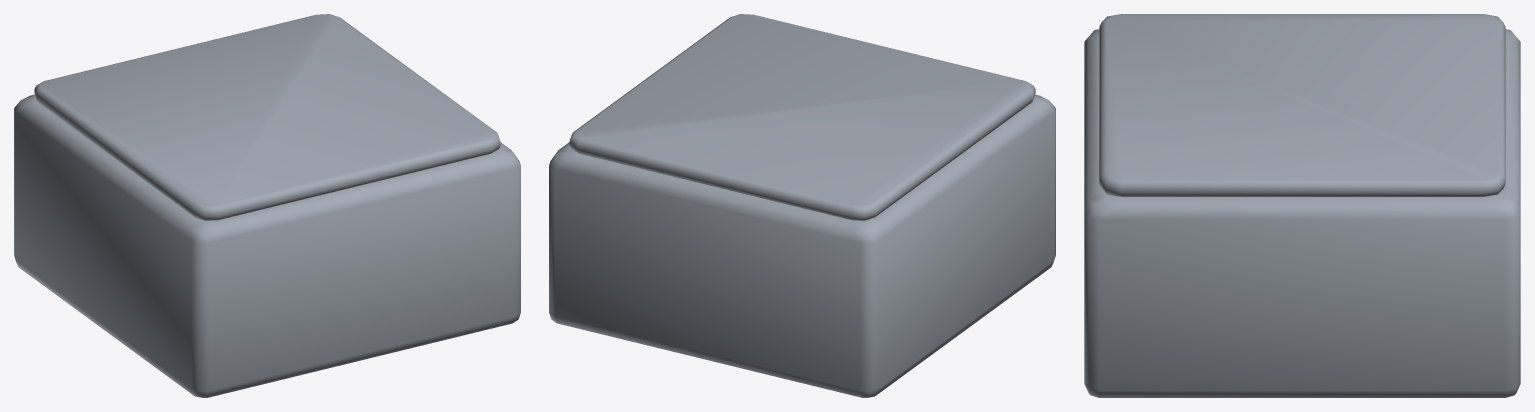
File: Block-O-Gray.fbx
3 views of the same model, side by side, from view 1: azimuth 30°, elevation 25°; view 2: azimuth 150°, elevation 25°; view 3: azimuth 270°, elevation 25° (orthographic). The views are drawn at different scales.
Visible parts, largest first — view 1: Block-O-Gray, Cube.046; view 2: Block-O-Gray, Cube.046; view 3: Block-O-Gray, Cube.046.
Part boxes in pixels (x1,y1,x2,y2): Block-O-Gray: [14, 94, 520, 397]; Cube.046: [34, 14, 500, 220]; Block-O-Gray: [549, 94, 1055, 397]; Cube.046: [569, 14, 1035, 220]; Block-O-Gray: [1084, 29, 1520, 397]; Cube.046: [1099, 14, 1505, 196].
Size of the model in its own units: 100 by 54.24 by 100.
